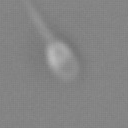normal: (20, 1, 53, 39)
